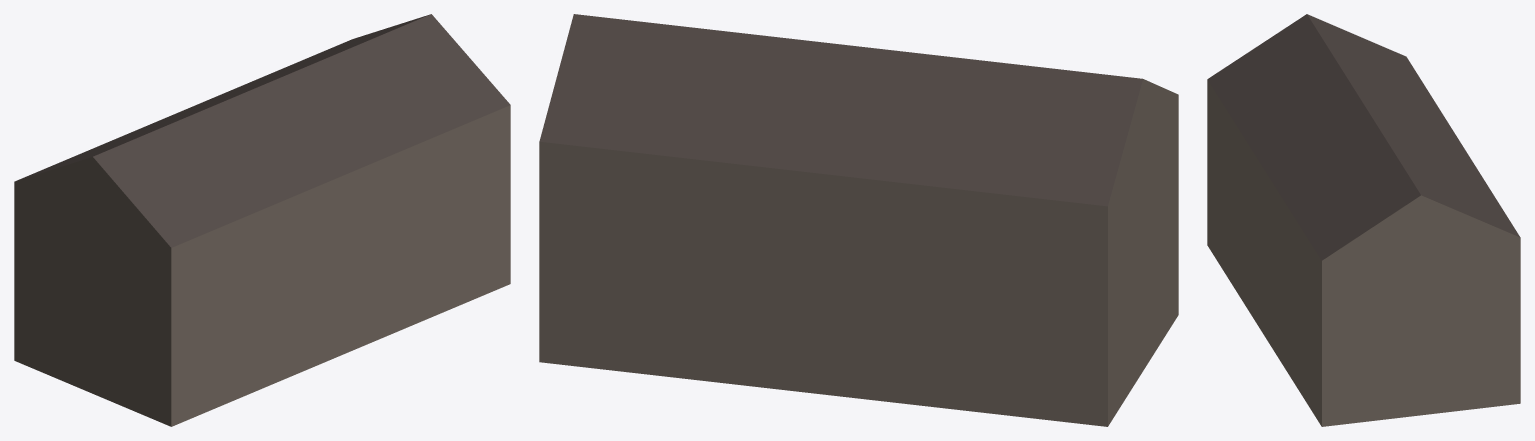
The picture shows the model from 3 angles, left to right: view 1: azimuth 30°, elevation 25°; view 2: azimuth 150°, elevation 25°; view 3: azimuth 270°, elevation 25°; orthographic projection. The views are drawn at different scales.
Parts seen in each view (by area): view 1: HP-w1198664285; view 2: HP-w1198664285; view 3: HP-w1198664285.
Part boxes in pixels (<box>): HP-w1198664285: <box>14,14,510,426</box>; HP-w1198664285: <box>539,14,1178,426</box>; HP-w1198664285: <box>1207,14,1520,426</box>.
Bounding box in the file's own units: 15.83 × 7.95 × 10.26.
